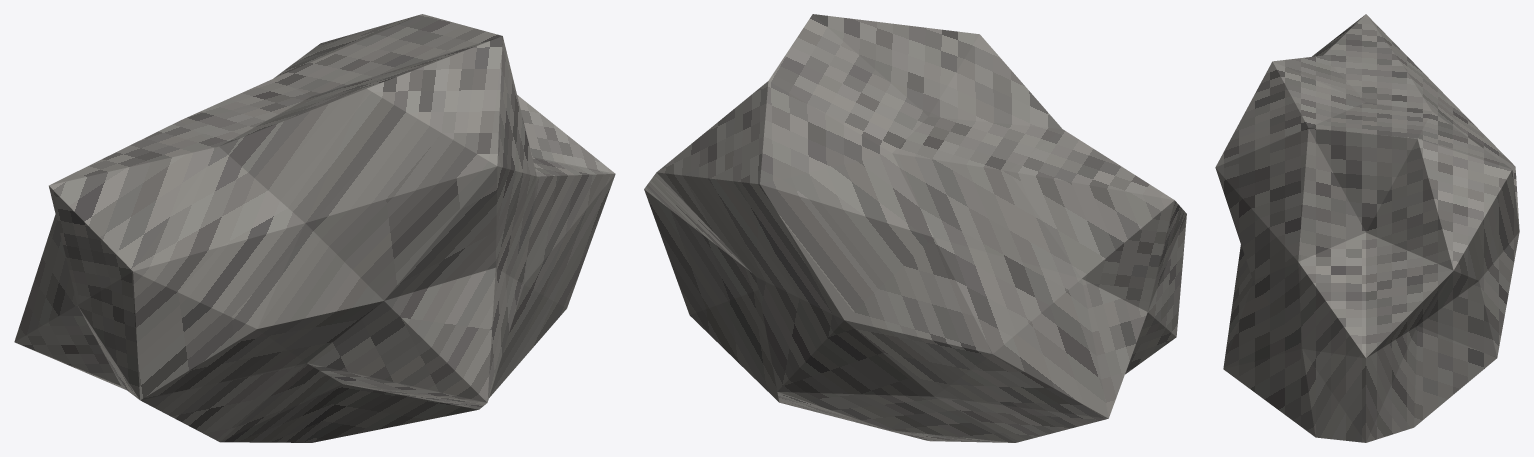
File: stone_small_3.glb
3 views of the same model, side by side, from view 1: azimuth 30°, elevation 25°; view 2: azimuth 150°, elevation 25°; view 3: azimuth 270°, elevation 25° (orthographic). The views are drawn at different scales.
Visible parts, largest first — view 1: stone; view 2: stone; view 3: stone.
Boxes of the visible parts, x1,y1,x2,y2 form: stone: (14,14,615,442); stone: (644,14,1186,442); stone: (1215,14,1519,442).
Size of the model in its own units: 1.14 by 0.761 by 0.623.
1 material, 1 textured.
